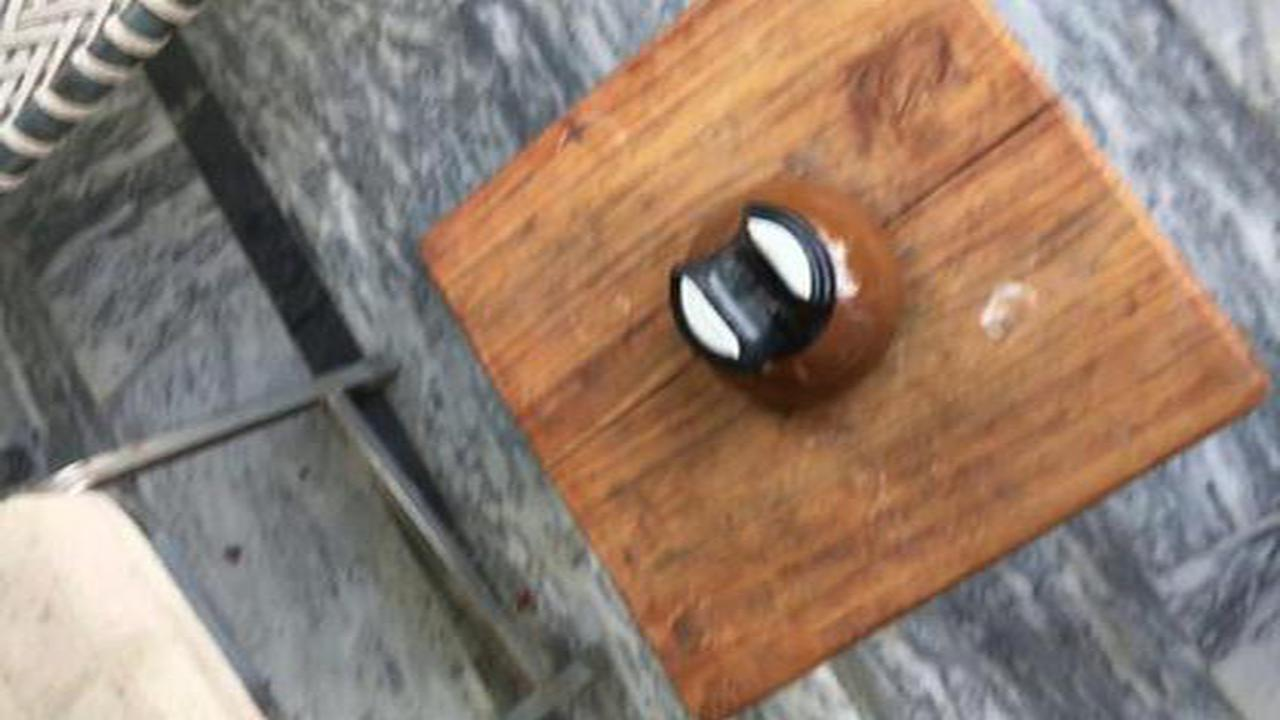insulator_pin: (644, 179, 924, 423)
